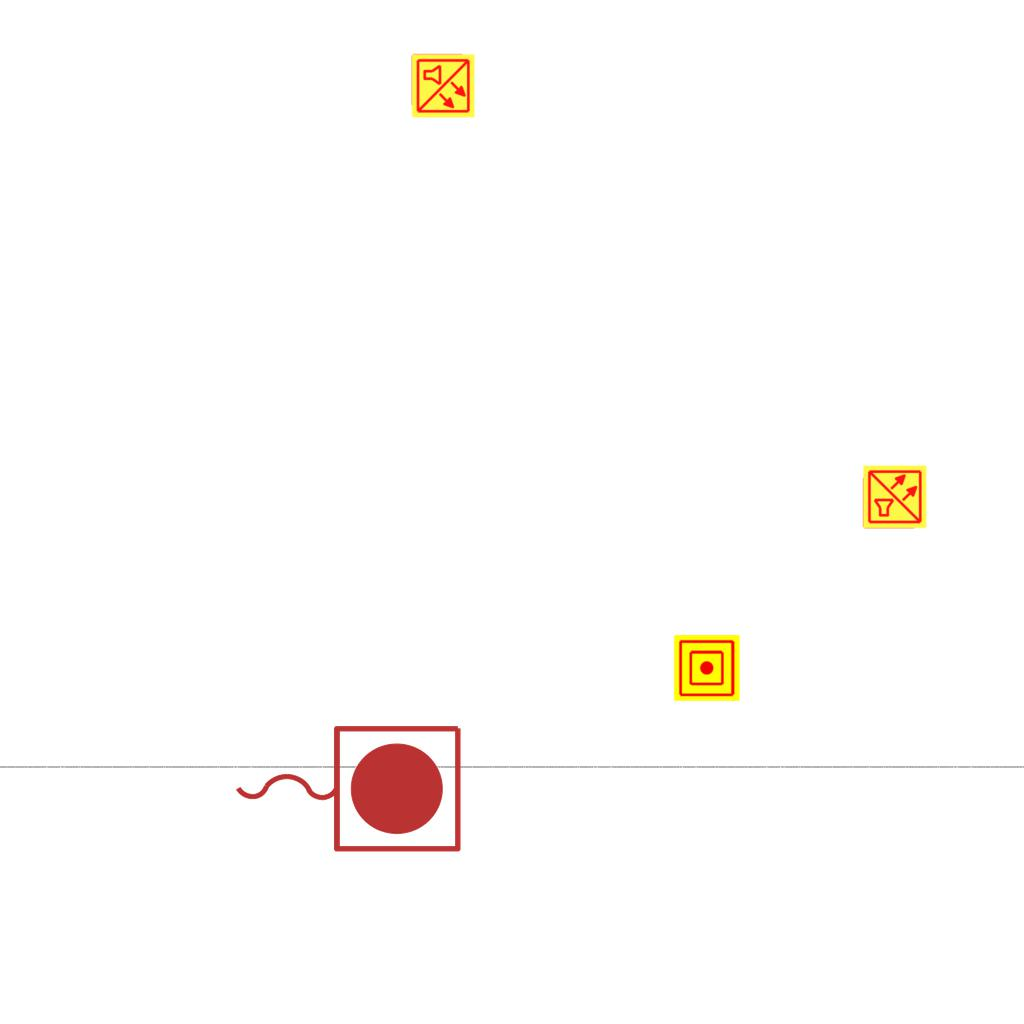NAM-Nichtautomatischer_Melder: (674, 635, 740, 701)
OKW_Multisensormelder_(Kombination_optischer_Rauch-Kahlenmonoxid_Waerme-Melder): (410, 53, 476, 119), (862, 464, 928, 530)
Zugtaster: (225, 715, 469, 859)
